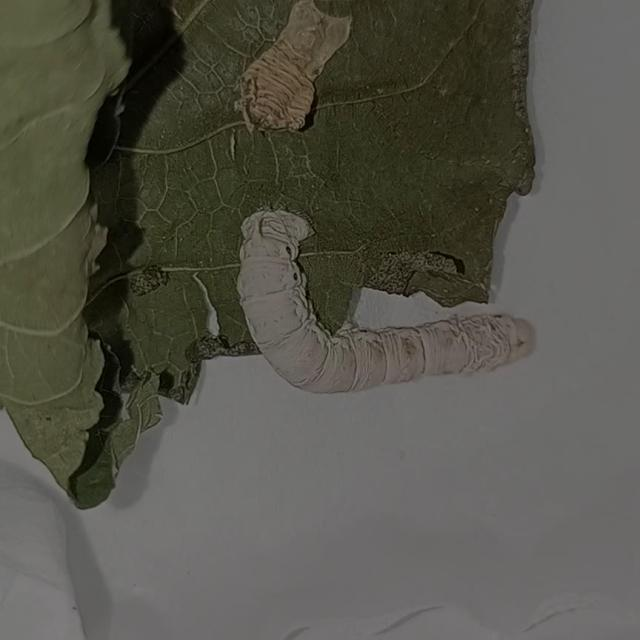Healthy: (203, 175, 588, 413)
